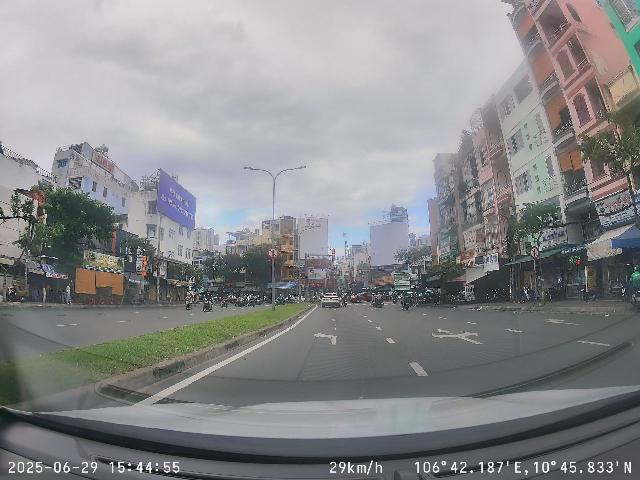136-cam-di-thang: (267, 247, 279, 259), (530, 246, 539, 260)
